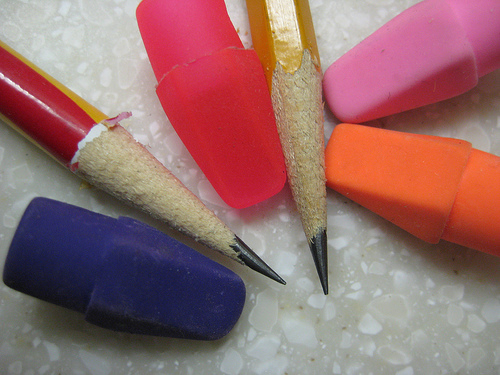pen_tip: (57, 108, 288, 302)
